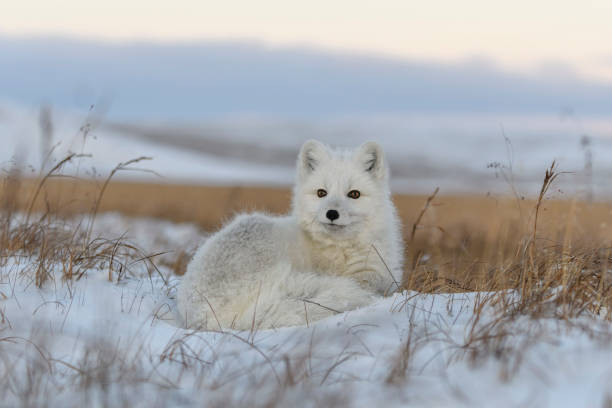arcticfox: (303, 169, 373, 241)
